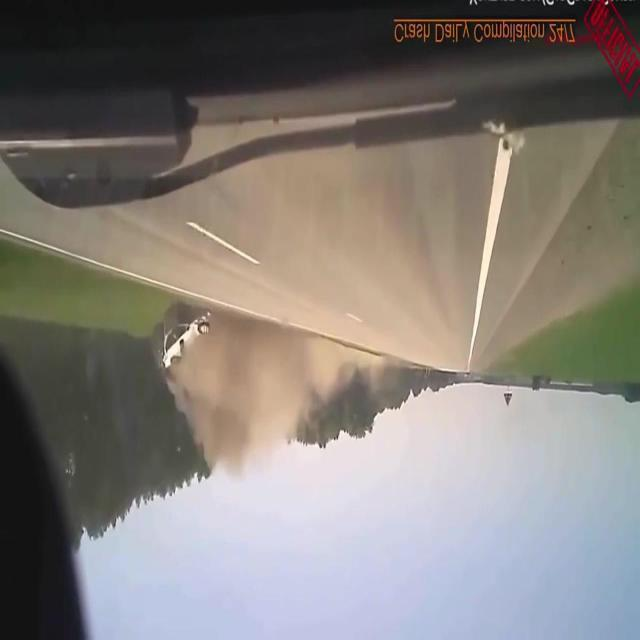person: (137, 296, 254, 384)
